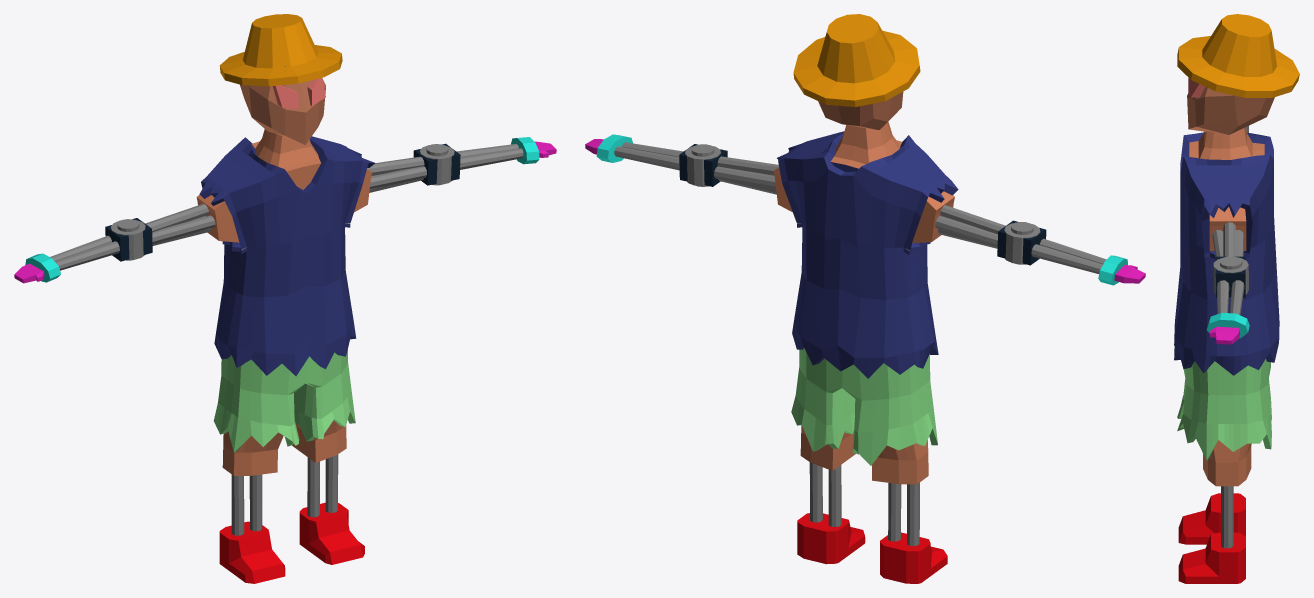
The model's file is player_skin_v2_colored.fbx.
3 views of the same model, side by side, from view 1: azimuth 30°, elevation 25°; view 2: azimuth 150°, elevation 25°; view 3: azimuth 270°, elevation 25° (orthographic). The views are drawn at different scales.
Visible parts, largest first — view 1: Cube, Cylinder, Cube.001; view 2: Cube, Cylinder, Cube.001; view 3: Cube, Cylinder, Cube.001.
Boxes of the visible parts, x1,y1,x2,y2 form: Cube: (14,129,556,583); Cylinder: (219,14,342,86); Cube.001: (240,66,325,144); Cube: (585,121,1145,583); Cylinder: (793,14,920,106); Cube.001: (818,92,903,129); Cube: (1174,126,1279,583); Cylinder: (1177,14,1299,97); Cube.001: (1187,77,1274,134).
Bounding box in the file's own units: 1036 × 976 × 208.
